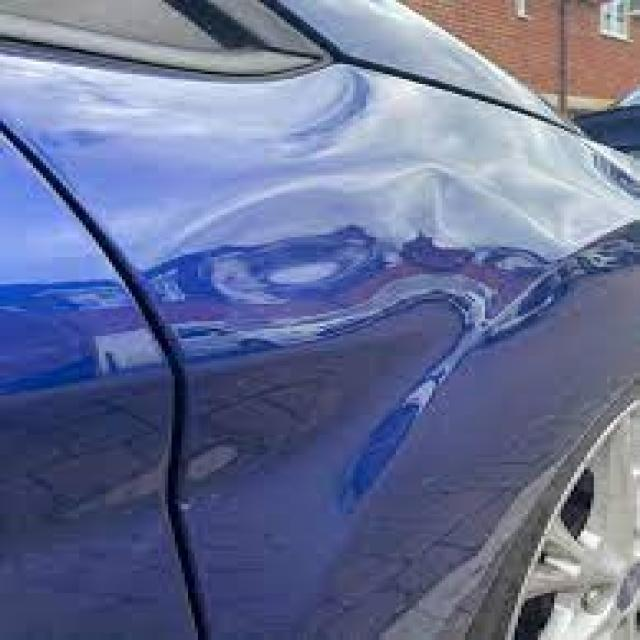Dent: (210, 77, 607, 494)
